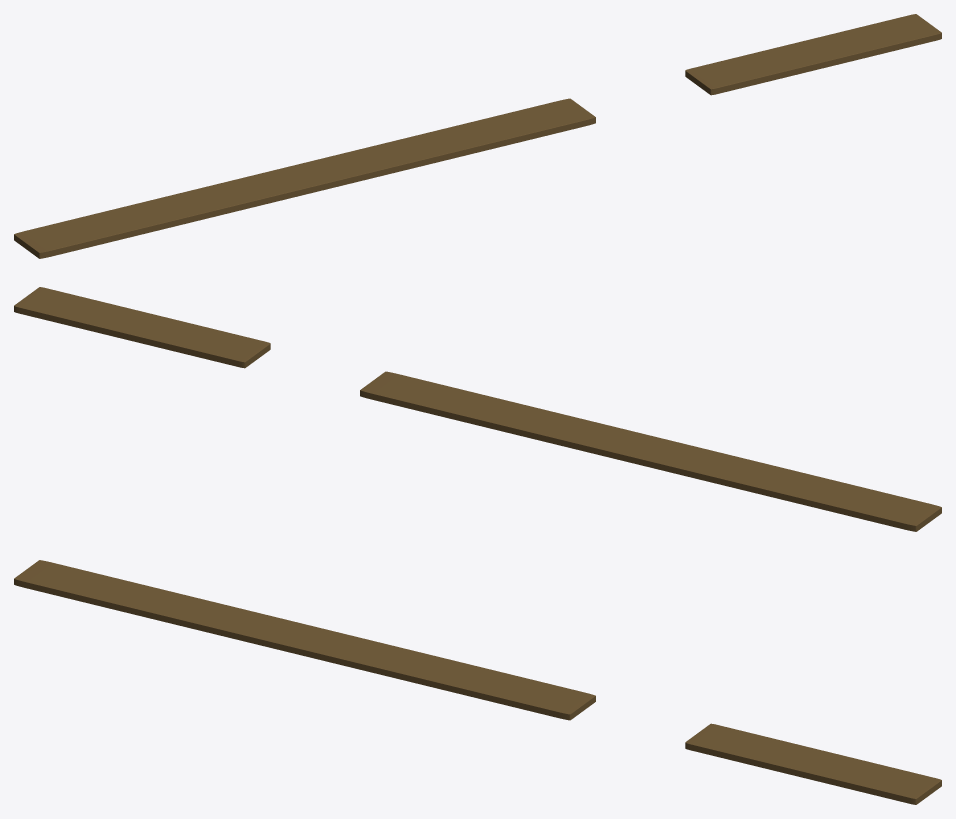
Rendered from Project (Red room).fbx.
The picture shows the model from 3 angles, top to bottom: view 1: azimuth 30°, elevation 25°; view 2: azimuth 150°, elevation 25°; view 3: azimuth 330°, elevation 25°; orthographic projection.
Visible parts, largest first — view 1: Cube, Cube.001; view 2: Cube, Cube.001; view 3: Cube, Cube.001.
Part boxes in pixels (x1,y1,x2,y2): Cube: (14,98,595,258); Cube.001: (685,14,941,95); Cube: (360,371,941,531); Cube.001: (14,287,270,368); Cube: (14,560,595,720); Cube.001: (685,723,941,804).
Size of the model in its own units: 17214 by 115 by 881.
